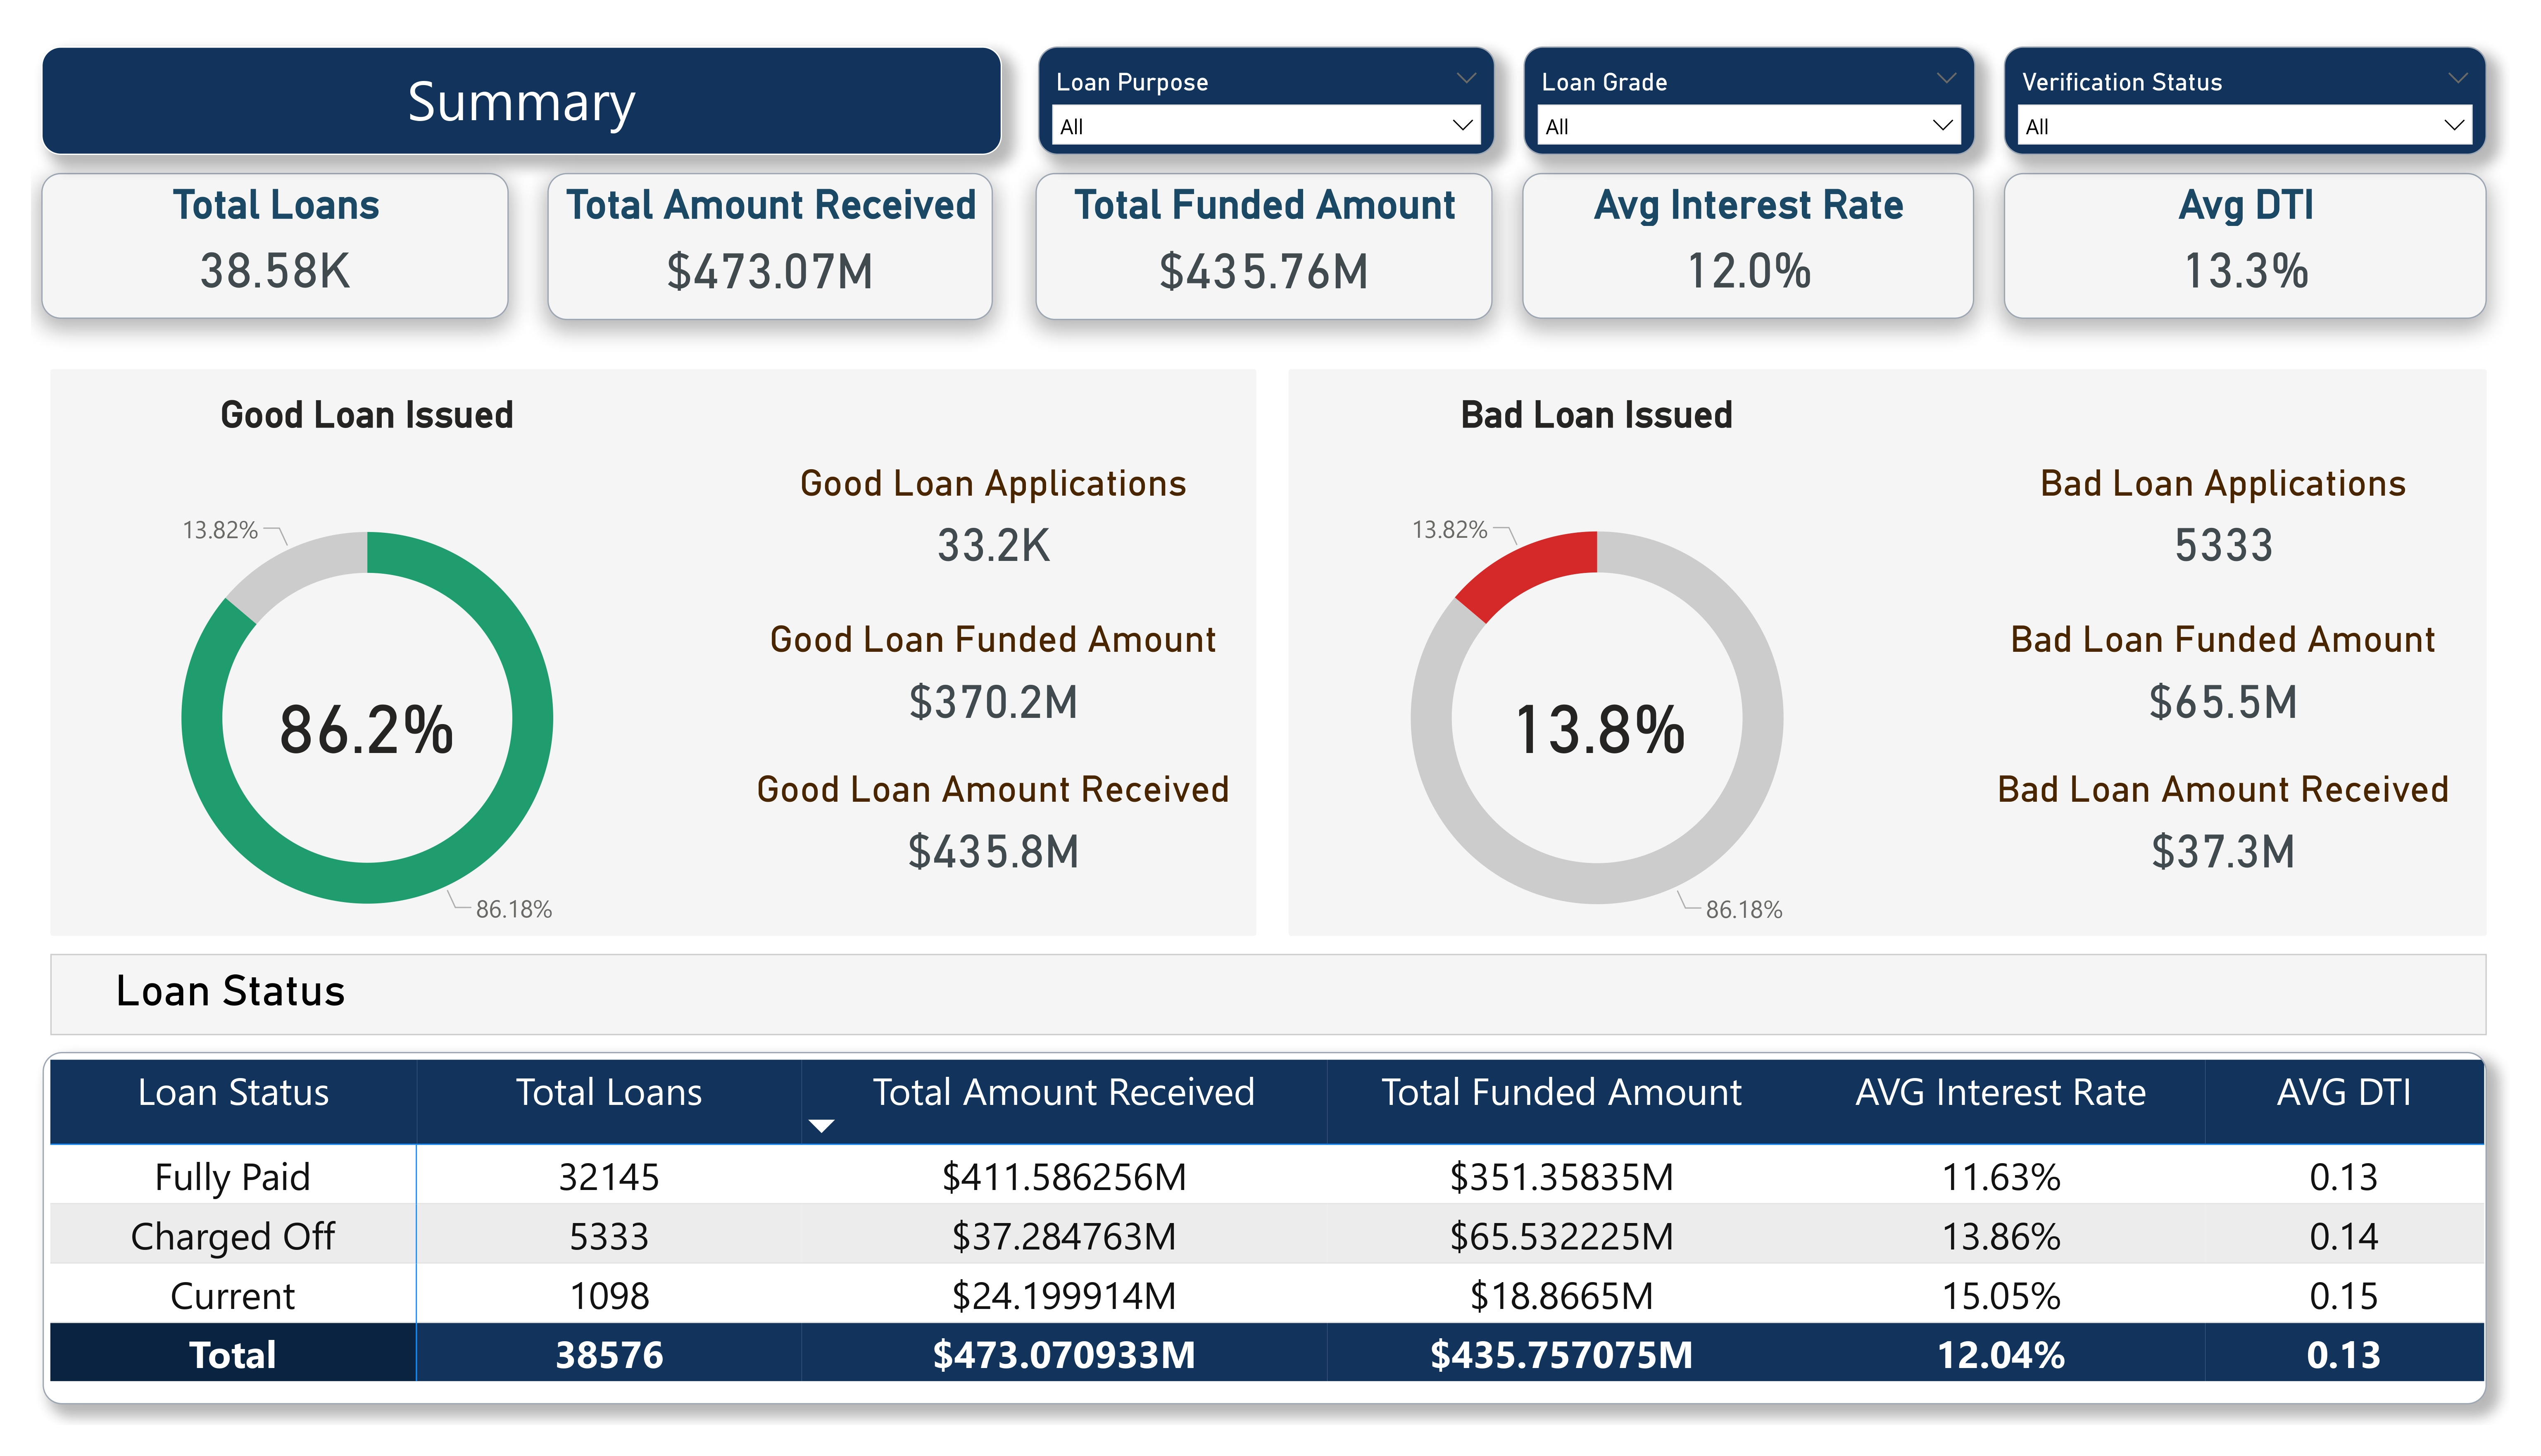

Layout of this report page (visuals, bound fields, positions):
{"tool":"powerbi","page":{"name":"Summary","canvas":[1920,1080],"ordinal":0},"visuals":[{"type":"shape","box":[14.7,715.4,1887.4,62.4],"z":0},{"type":"card","title":"Total Loans","fields":{"Values":["CountNonNull(fact_loan.loan_id_pk_sk)"]},"box":[8.3,110,361.7,113.3],"z":1000},{"type":"shape","box":[14.7,262.3,933.6,438.9],"z":1000,"group":"g2"},{"type":"card","title":"Avg Interest Rate","fields":{"Values":["Avg(fact_loan.interest_rate)"]},"box":[1155,110,350,113.3],"z":2000},{"type":"card","title":"Avg DTI","fields":{"Values":["Avg(fact_loan.dti)"]},"box":[1528.3,110,373.3,113.3],"z":3000},{"type":"donutChart","title":"Good Loan Issued","fields":{"Y":["CountNonNull(fact_loan.status_id_fk)"],"Category":["dim_status.loan_status_category"]},"box":[22.6,280.4,474.6,466.1],"z":3000,"group":"g2"},{"type":"textbox","box":[8,12,744,84],"z":4000},{"type":"card","title":"Total Amount Received","fields":{"Values":["Sum(fact_loan.total_payment)"]},"box":[399.9,110.1,344.8,113.7],"z":5000},{"type":"card","title":"Good Loan Applications","fields":{"Values":["CountNonNull(fact_loan.status_id_fk)"]},"box":[550.9,333,389.2,90.7],"z":5000,"group":"g2"},{"type":"card","title":"Total Funded Amount","fields":{"Values":["Sum(fact_loan.loan_amount)"]},"box":[778,110,354,114],"z":6000},{"type":"slicer","fields":{"Values":["fact_loan.purpose"]},"box":[780,12,354,84],"z":7000},{"type":"card","title":"Good Loan Funded Amount","fields":{"Values":["Sum(fact_loan.loan_amount)"]},"box":[550.9,454.5,389.2,90.7],"z":7000,"group":"g2"},{"type":"slicer","fields":{"Values":["dim_credit_grade.grade"]},"box":[1156,12,350,84],"z":8000},{"type":"slicer","fields":{"Values":["dim_borrowers.verification_status"]},"box":[1528,12,374,84],"z":9000},{"type":"card","title":"Good Loan Amount Received","fields":{"Values":["Sum(fact_loan.total_payment)"]},"box":[550.9,570.6,389.2,90.7],"z":9000,"group":"g2"},{"type":"card","fields":{"Values":["CountNonNull(fact_loan.status_id_fk)","select"]},"box":[156,486,200,150],"z":10000},{"type":"group","id":"g1","title":"Group 1","box":[974,262.3,928.1,484.2],"z":11000},{"type":"shape","box":[974,262.3,928.1,438.9],"z":11000,"group":"g1"},{"type":"group","id":"g2","title":"Group 2","box":[14.7,262.3,933.6,484.2],"z":12000},{"type":"donutChart","title":"Bad Loan Issued","fields":{"Y":["CountNonNull(fact_loan.status_id_fk)"],"Category":["dim_status.loan_status_category"]},"box":[974,280.4,478.1,466.1],"z":12000,"group":"g1"},{"type":"card","title":"Bad Loan Applications","fields":{"Values":["CountNonNull(fact_loan.status_id_fk)"]},"box":[1494.1,333,408.1,90.7],"z":13000,"group":"g1"},{"type":"textbox","box":[22,724,270,42],"z":13000},{"type":"card","title":"Bad Loan Funded Amount","fields":{"Values":["Sum(fact_loan.loan_amount)"]},"box":[1494.1,454.5,408.1,90.7],"z":14000,"group":"g1"},{"type":"pivotTable","fields":{"Values":["CountNonNull(fact_loan.loan_id_pk_sk)","Sum(fact_loan.total_payment)","Sum(fact_loan.loan_amount)","Avg(fact_loan.interest_rate)","Avg(fact_loan.dti)"],"Rows":["dim_status.loan_status"]},"box":[9.2,790.6,1892.9,273.3],"z":14000},{"type":"card","fields":{"Values":["dim_borrowers.Loan Status Percentage"]},"box":[1134,486,160,96],"z":15000},{"type":"card","title":"Bad Loan Amount Received","fields":{"Values":["Sum(fact_loan.total_payment)"]},"box":[1494.1,570.6,408.1,90.7],"z":15000,"group":"g1"},{"type":"card","fields":{"Values":["dim_borrowers.Loan Status Percentage"]},"box":[182,486,156,96],"z":16000}]}

Visuals, with their boxes on the page's 1920x1080 design canvas (x1, y1, x2, y2). These are canvas units, not pixel positions in the 2541x1456 screenshot, which may show the page scaled, cropped or inside an application window:
shape: [left=15, top=715, right=1902, bottom=778]
"Total Loans" card: [left=8, top=110, right=370, bottom=223]
shape: [left=15, top=262, right=948, bottom=701]
"Avg Interest Rate" card: [left=1155, top=110, right=1505, bottom=223]
"Avg DTI" card: [left=1528, top=110, right=1902, bottom=223]
"Good Loan Issued" donutChart: [left=23, top=280, right=497, bottom=746]
textbox: [left=8, top=12, right=752, bottom=96]
"Total Amount Received" card: [left=400, top=110, right=745, bottom=224]
"Good Loan Applications" card: [left=551, top=333, right=940, bottom=424]
"Total Funded Amount" card: [left=778, top=110, right=1132, bottom=224]
slicer - fact_loan.purpose: [left=780, top=12, right=1134, bottom=96]
"Good Loan Funded Amount" card: [left=551, top=454, right=940, bottom=545]
slicer - dim_credit_grade.grade: [left=1156, top=12, right=1506, bottom=96]
slicer - dim_borrowers.verification_status: [left=1528, top=12, right=1902, bottom=96]
"Good Loan Amount Received" card: [left=551, top=571, right=940, bottom=661]
card - CountNonNull(fact_loan.status_id_fk) x select: [left=156, top=486, right=356, bottom=636]
"Group 1" group: [left=974, top=262, right=1902, bottom=746]
shape: [left=974, top=262, right=1902, bottom=701]
"Group 2" group: [left=15, top=262, right=948, bottom=746]
"Bad Loan Issued" donutChart: [left=974, top=280, right=1452, bottom=746]
"Bad Loan Applications" card: [left=1494, top=333, right=1902, bottom=424]
textbox: [left=22, top=724, right=292, bottom=766]
"Bad Loan Funded Amount" card: [left=1494, top=454, right=1902, bottom=545]
pivotTable - CountNonNull(fact_loan.loan_id_pk_sk) x Sum(fact_loan.total_payment): [left=9, top=791, right=1902, bottom=1064]
card - dim_borrowers.Loan Status Percentage: [left=1134, top=486, right=1294, bottom=582]
"Bad Loan Amount Received" card: [left=1494, top=571, right=1902, bottom=661]
card - dim_borrowers.Loan Status Percentage: [left=182, top=486, right=338, bottom=582]
